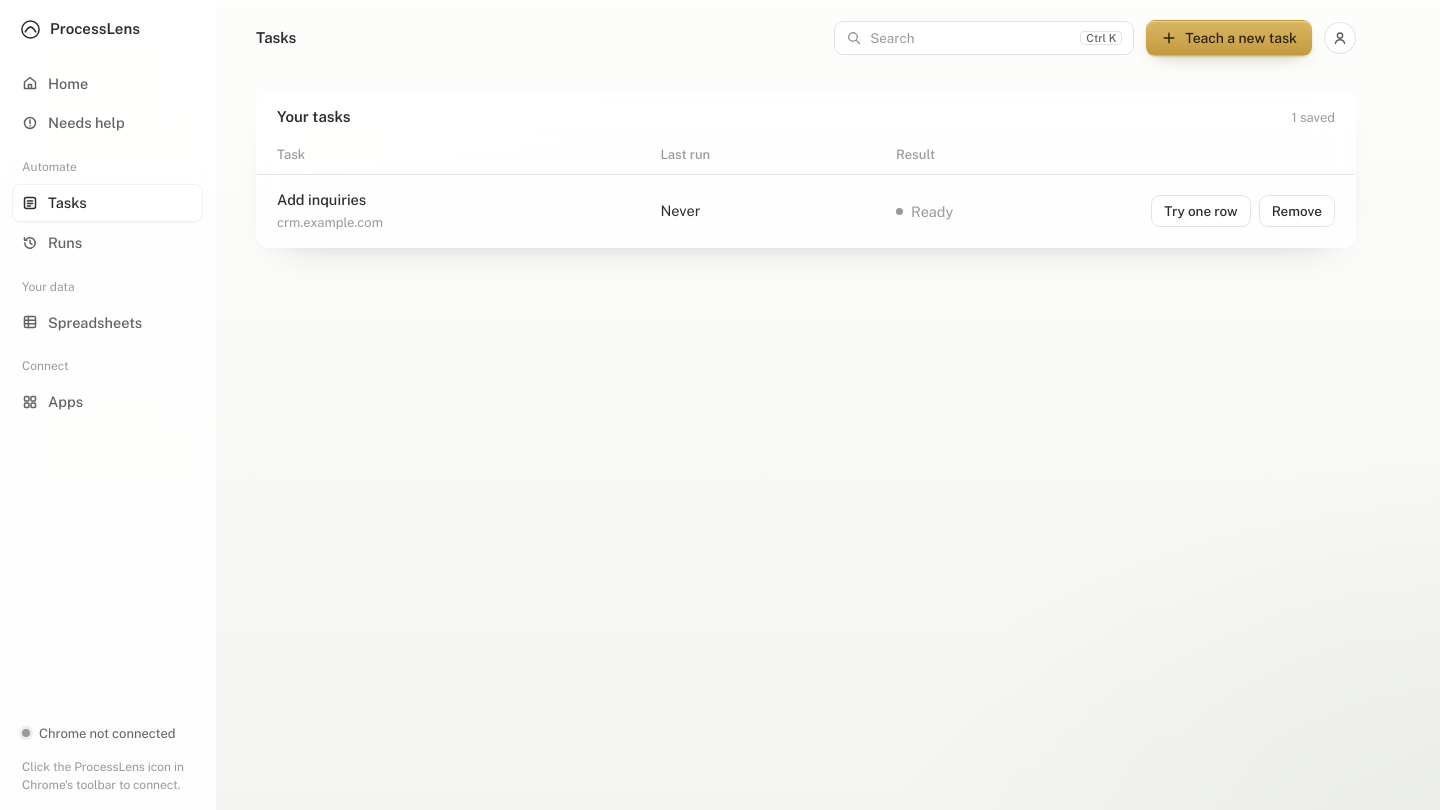
it: the web Tasks page (PL-120) › asks first, and Keep it leaves the task alone
What coordinates should you click on to do the following:
click the button "Remove"
I would click on:
 (1297, 211)
Its box is 1259,195 -> 1335,227.
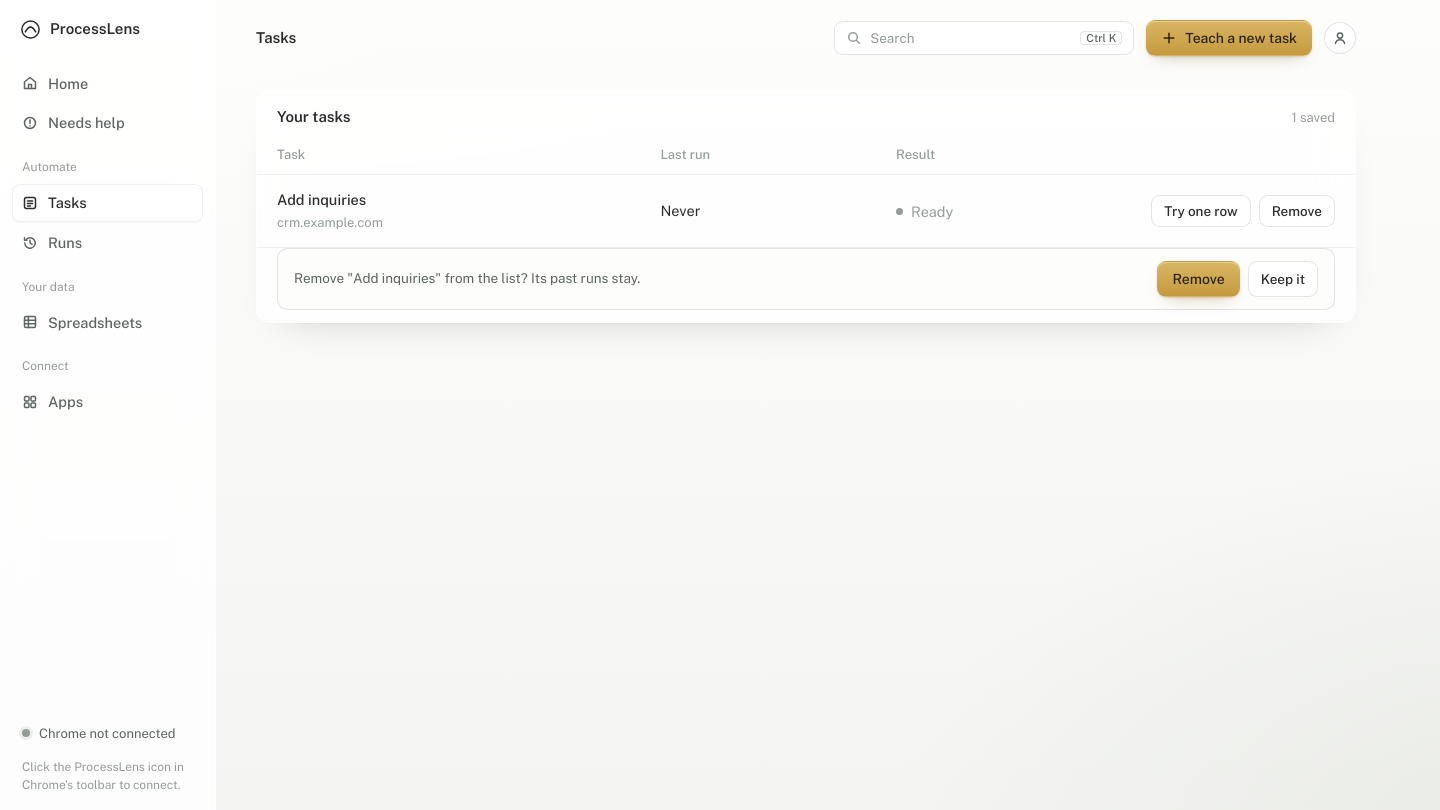
Expected: the text "Remove \"Add inquiries\" from the list? Its past runs stay." is shown, 294,268 -> 640,289
What coordinates should you click on to do the following:
click the button "Keep it"
I would click on:
 (1283, 278)
Its box is 1248,260 -> 1318,296.
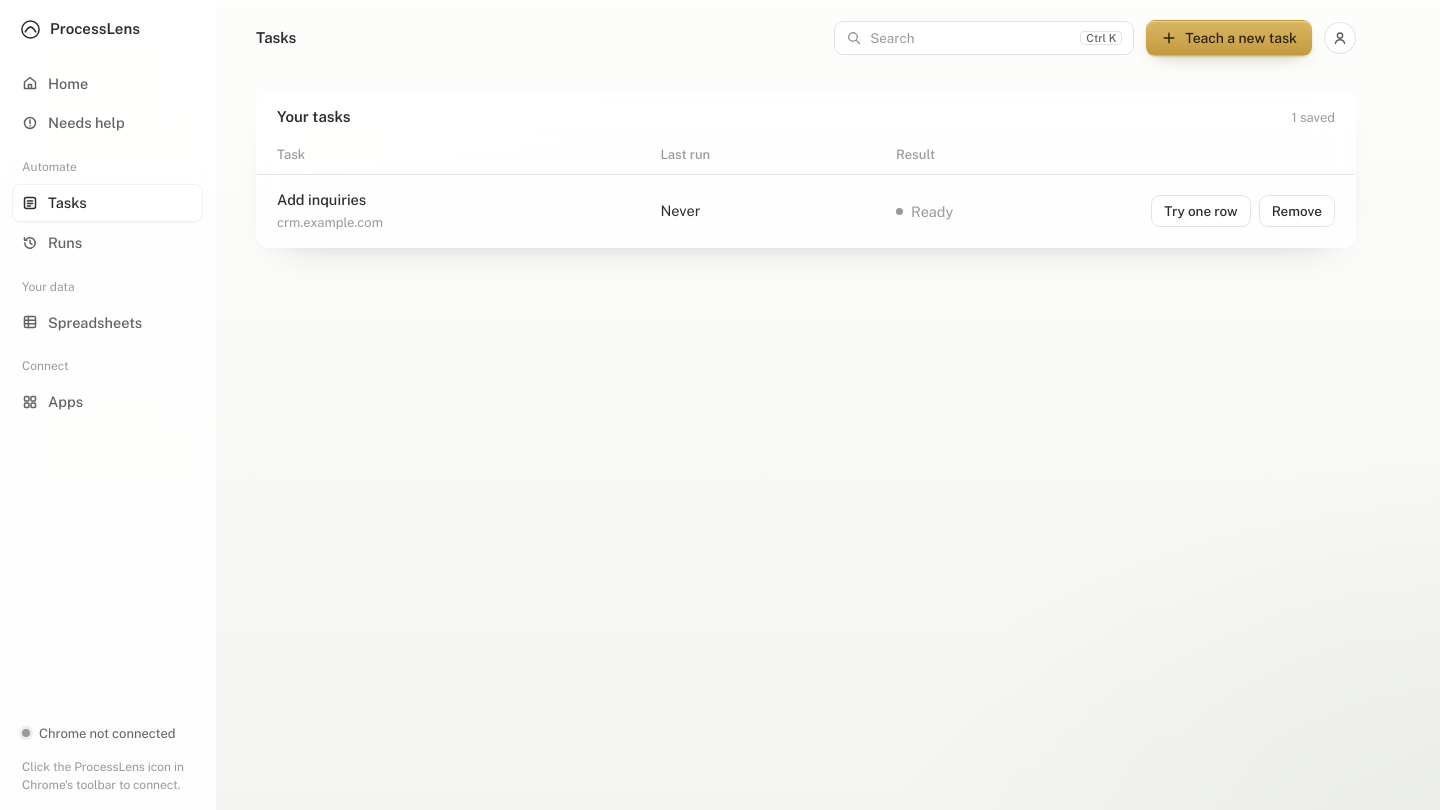
Expected: the link "Add inquiries" is shown, 277,191 -> 366,208
Expected: the dialog is gone
